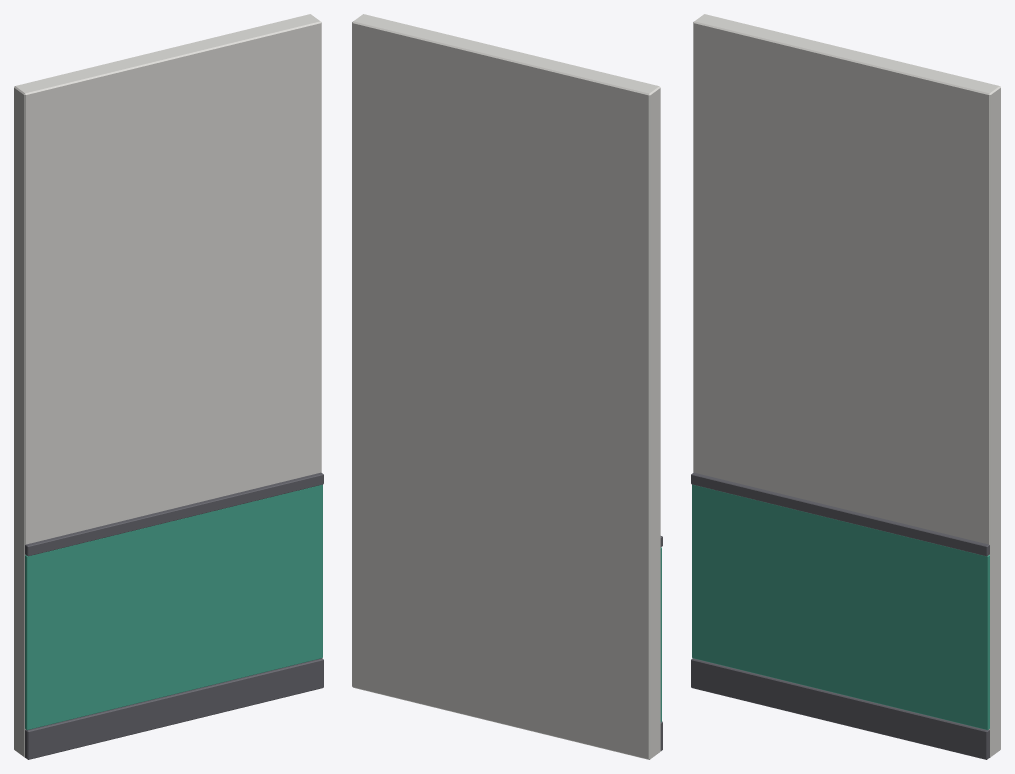
The model's file is petrol-station-and-forecourt-shop-shop-wall-panel-e781bd52__33964.glb.
The picture shows the model from 3 angles, left to right: view 1: azimuth 30°, elevation 25°; view 2: azimuth 150°, elevation 25°; view 3: azimuth 330°, elevation 25°; orthographic projection.
Parts seen in each view (by area): view 1: shop-wall-panel; view 2: shop-wall-panel; view 3: shop-wall-panel.
Part boxes in pixels (<box>): shop-wall-panel: <box>14,14,323,759</box>; shop-wall-panel: <box>352,14,662,759</box>; shop-wall-panel: <box>691,14,1000,759</box>.
Size of the model in its own units: 1.5 by 3.2 by 0.1225.
